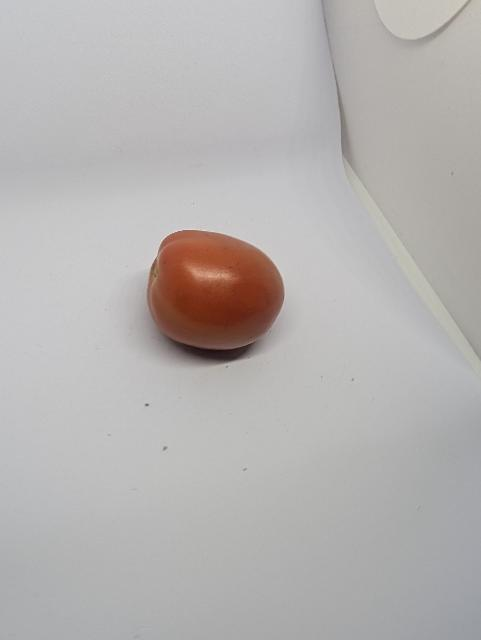red: (145, 225, 288, 358)
